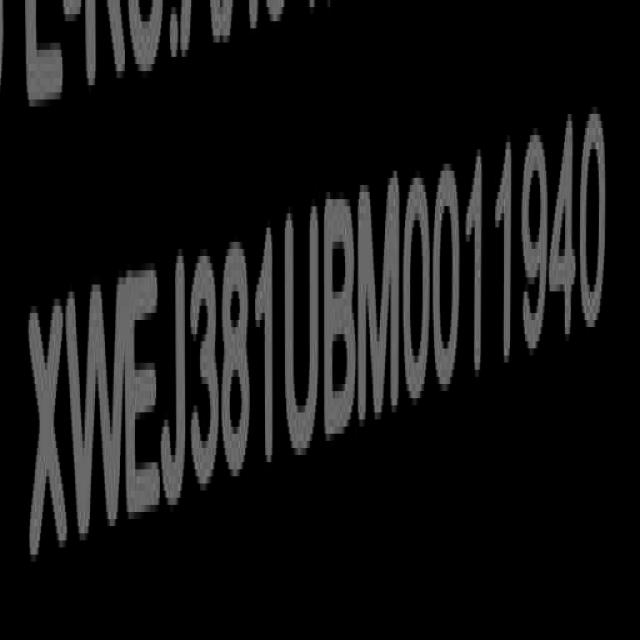0: (403, 165, 433, 416), (433, 155, 461, 404), (582, 102, 610, 341)
1: (256, 217, 278, 481), (494, 127, 517, 376), (467, 142, 485, 396)
3: (191, 242, 223, 504)
4: (552, 116, 578, 354)
8: (221, 236, 252, 488)
9: (520, 125, 549, 365)
B: (324, 186, 357, 450)
E: (128, 266, 162, 532)
J: (161, 260, 188, 518)
M: (359, 173, 401, 429)
U: (282, 205, 321, 456)
W: (70, 273, 124, 557)
X: (30, 296, 69, 576)
